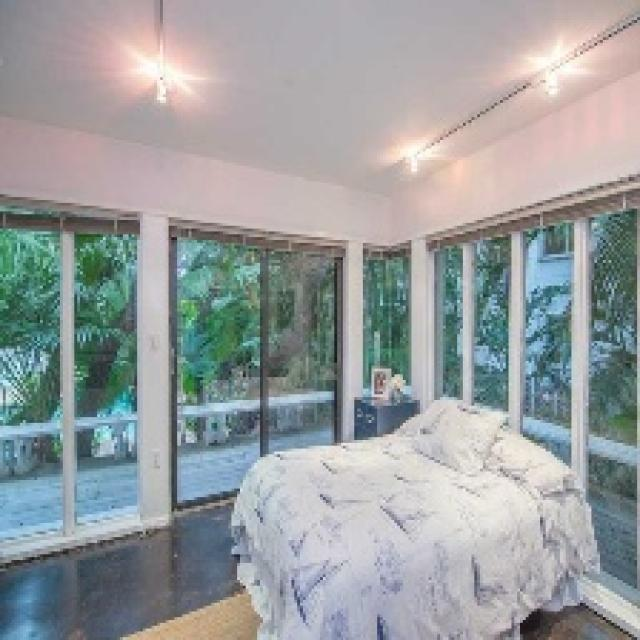Bed: (229, 394, 600, 637)
